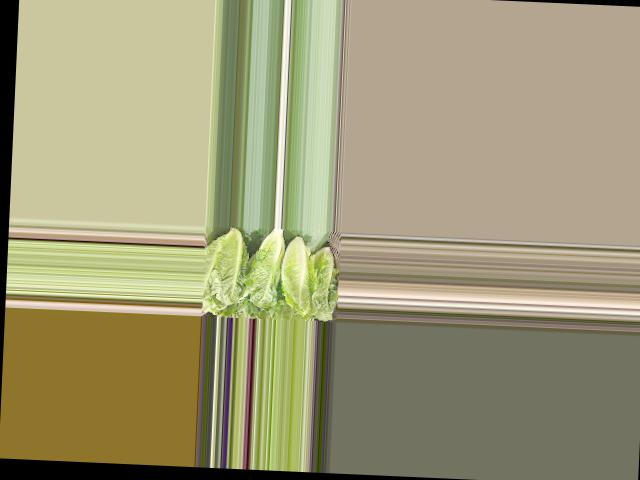lettuce: (309, 248, 334, 321)
